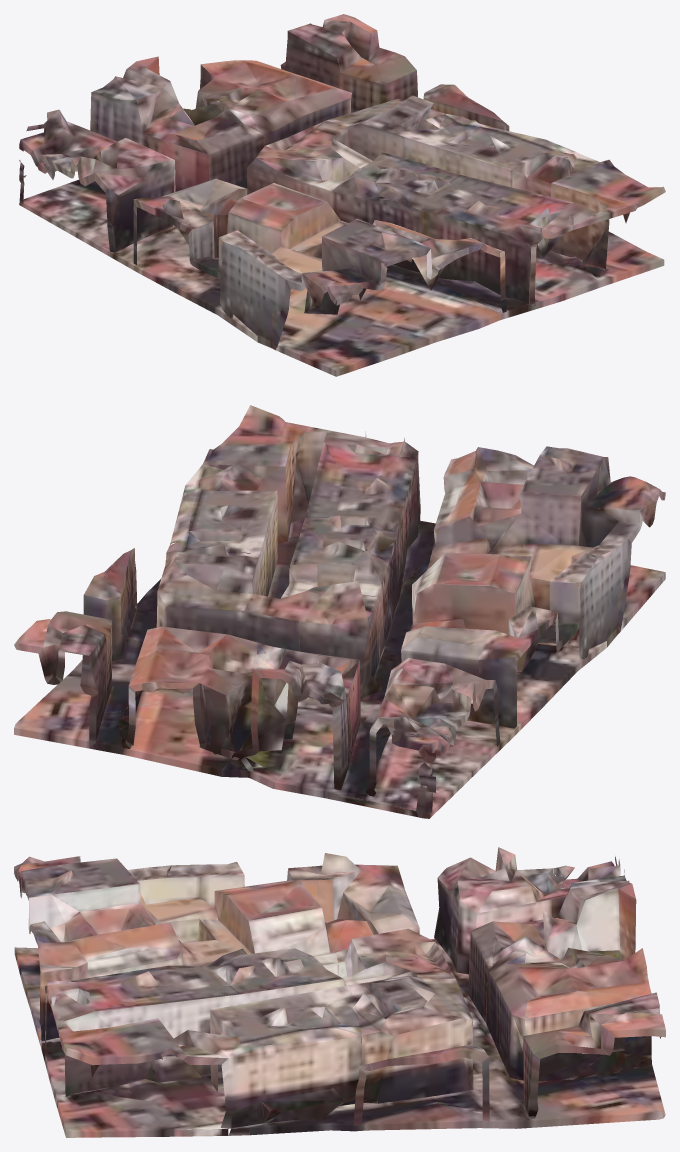
3 views of the same model, one above another, from view 1: azimuth 30°, elevation 25°; view 2: azimuth 150°, elevation 25°; view 3: azimuth 270°, elevation 25° (orthographic). The views are drawn at different scales.
Parts seen in each view (by area): view 1: Mesh_0; view 2: Mesh_0; view 3: Mesh_0.
Boxes of the visible parts, x1,y1,x2,y2 form: Mesh_0: (19,14,665,376); Mesh_0: (14,405,665,818); Mesh_0: (14,847,665,1137).
Size of the model in its own units: 136 by 37.71 by 165.
Materials: 1 (1 with a texture image).
